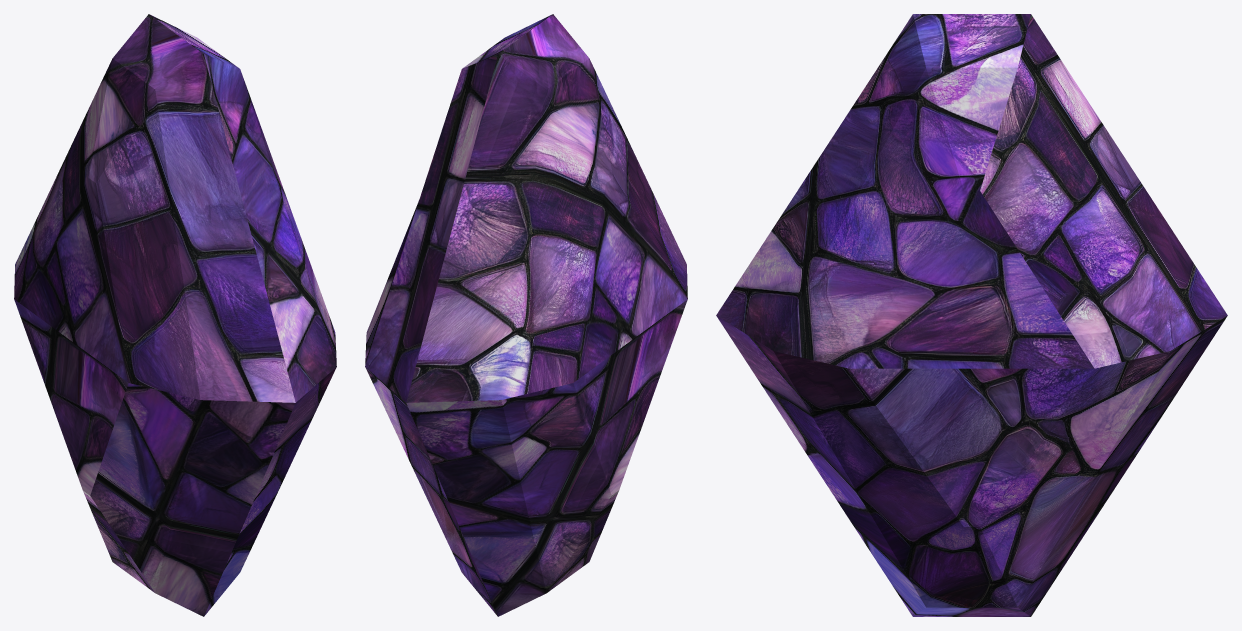
The model's file is gemstone7Purple.glb.
The picture shows the model from 3 angles, left to right: view 1: azimuth 30°, elevation 25°; view 2: azimuth 150°, elevation 25°; view 3: azimuth 270°, elevation 25°; orthographic projection. The views are drawn at different scales.
Visible parts, largest first — view 1: gemstone6; view 2: gemstone6; view 3: gemstone6.
Part boxes in pixels (x1,y1,x2,y2): gemstone6: [14, 14, 336, 616]; gemstone6: [365, 14, 687, 616]; gemstone6: [716, 14, 1227, 616].
Size of the model in its own units: 0.5 by 1.3 by 1.
1 material, 1 textured.
